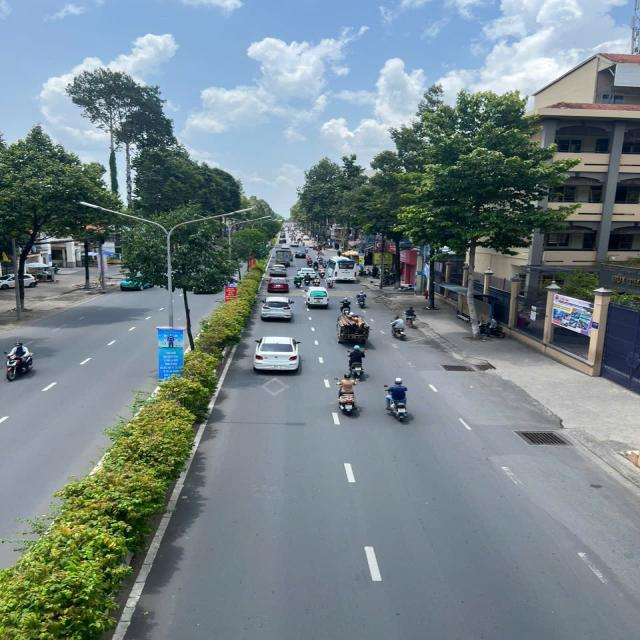Bicycle: (406, 307, 417, 328)
Bus: (329, 256, 357, 282)
Truck: (306, 287, 328, 309), (274, 249, 292, 267)
car: (256, 336, 300, 373), (263, 296, 292, 321), (268, 278, 289, 293), (270, 265, 287, 277), (297, 251, 306, 258), (308, 242, 317, 248), (281, 244, 291, 249), (279, 238, 287, 244), (291, 241, 299, 246), (314, 245, 322, 250), (302, 236, 309, 240), (280, 234, 285, 238)
motobyte: (382, 380, 412, 422), (17, 341, 44, 385), (342, 347, 366, 375), (340, 377, 358, 413), (479, 316, 505, 339), (392, 316, 408, 342), (356, 291, 366, 307), (340, 298, 350, 314), (304, 274, 311, 286), (295, 275, 301, 288), (327, 276, 333, 288), (314, 276, 320, 286), (319, 268, 325, 278), (318, 257, 324, 264), (314, 262, 318, 270), (308, 259, 312, 267), (323, 260, 327, 267), (306, 247, 308, 253)
non-motorized vehicle: (335, 312, 373, 346)
